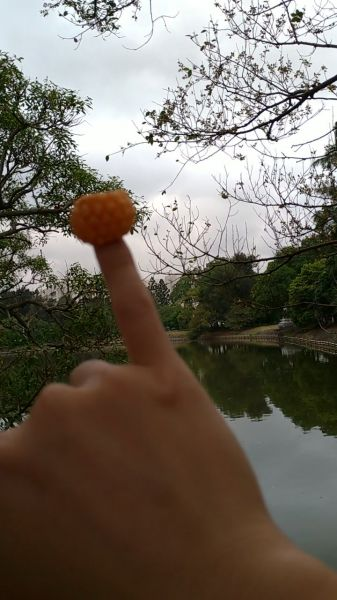eggs: (70, 190, 136, 245)
